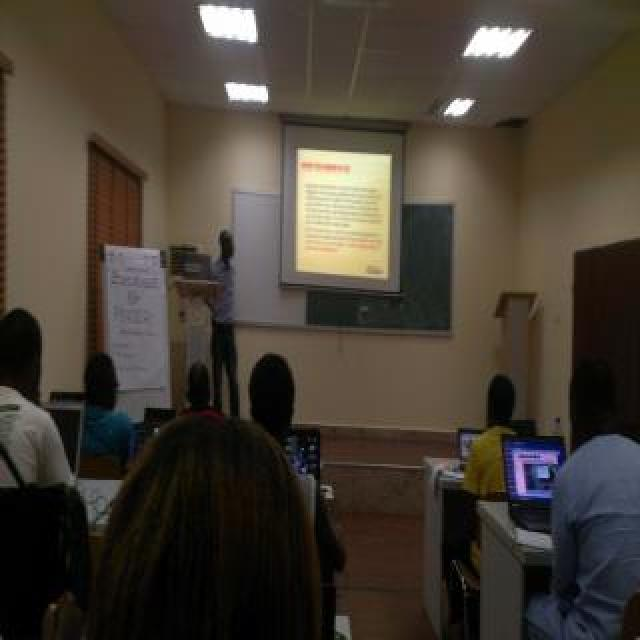laptop_computer: (481, 437, 564, 534), (35, 388, 113, 482), (268, 418, 358, 490), (442, 415, 489, 469)
